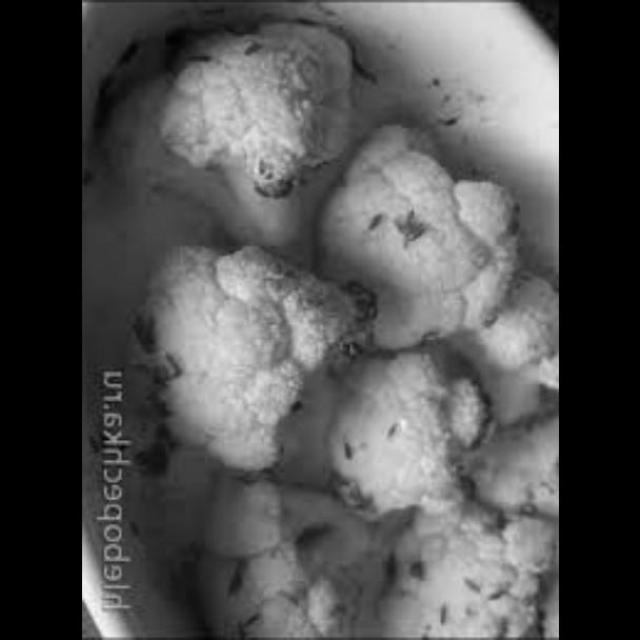cauliflower: (132, 238, 384, 476), (307, 117, 525, 350), (137, 5, 354, 199), (180, 463, 378, 640), (330, 337, 502, 516), (374, 480, 559, 640), (460, 260, 560, 398), (464, 397, 559, 525)
